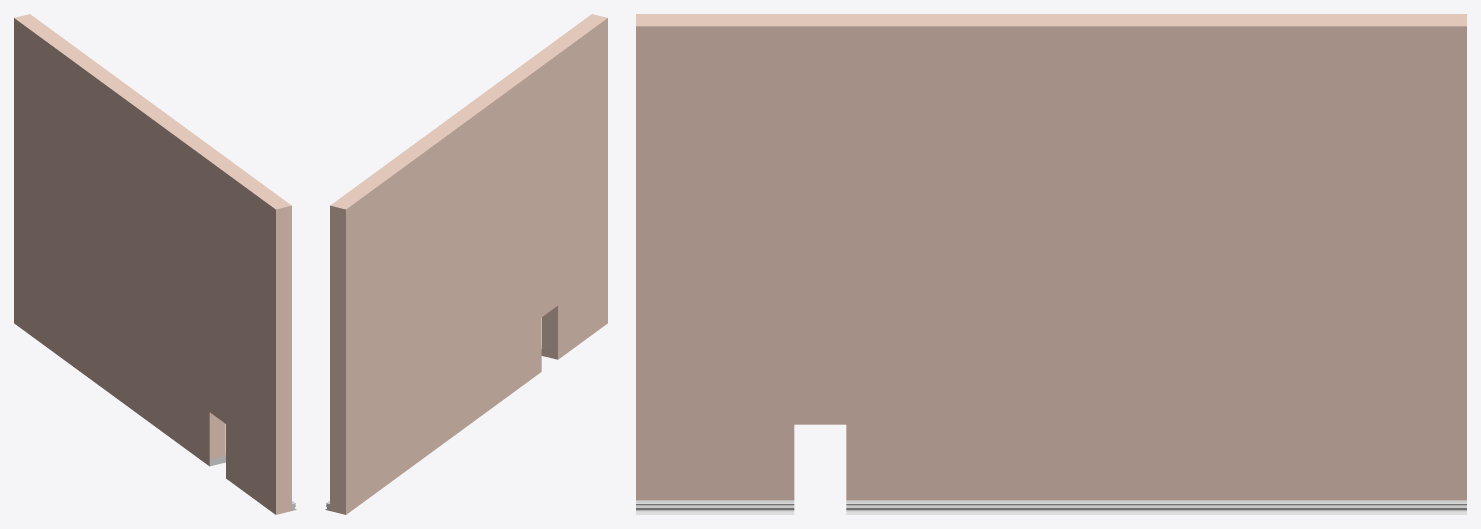
Rendered from DoorWall_Scale.fbx.
3 renders of one model, left to right at view 1: azimuth 30°, elevation 25°; view 2: azimuth 150°, elevation 25°; view 3: azimuth 270°, elevation 25°, orthographic. The views are drawn at different scales.
Parts seen in each view (by area): view 1: 큐브; view 2: 큐브; view 3: 큐브.
Part boxes in pixels (<box>): 큐브: <box>14,14,296,514</box>; 큐브: <box>325,14,607,514</box>; 큐브: <box>636,14,1466,514</box>.
Bounding box in the file's own units: 11.23 × 155 × 242.
